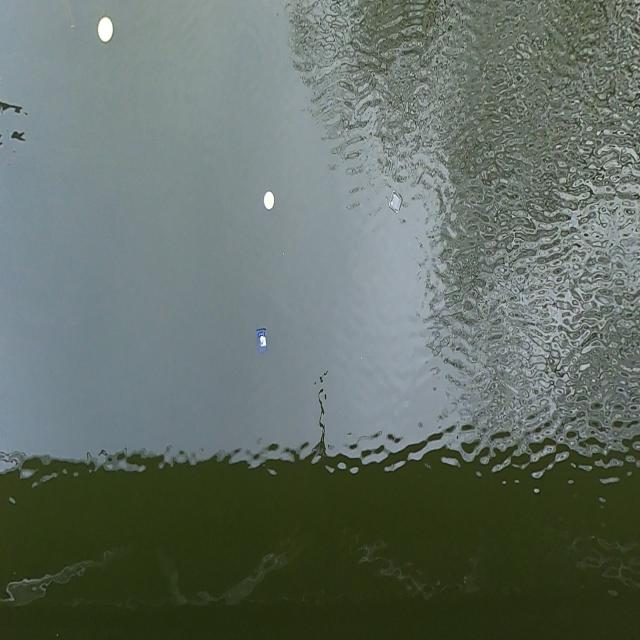Autre plastique: (390, 191, 402, 213), (258, 329, 268, 351)
